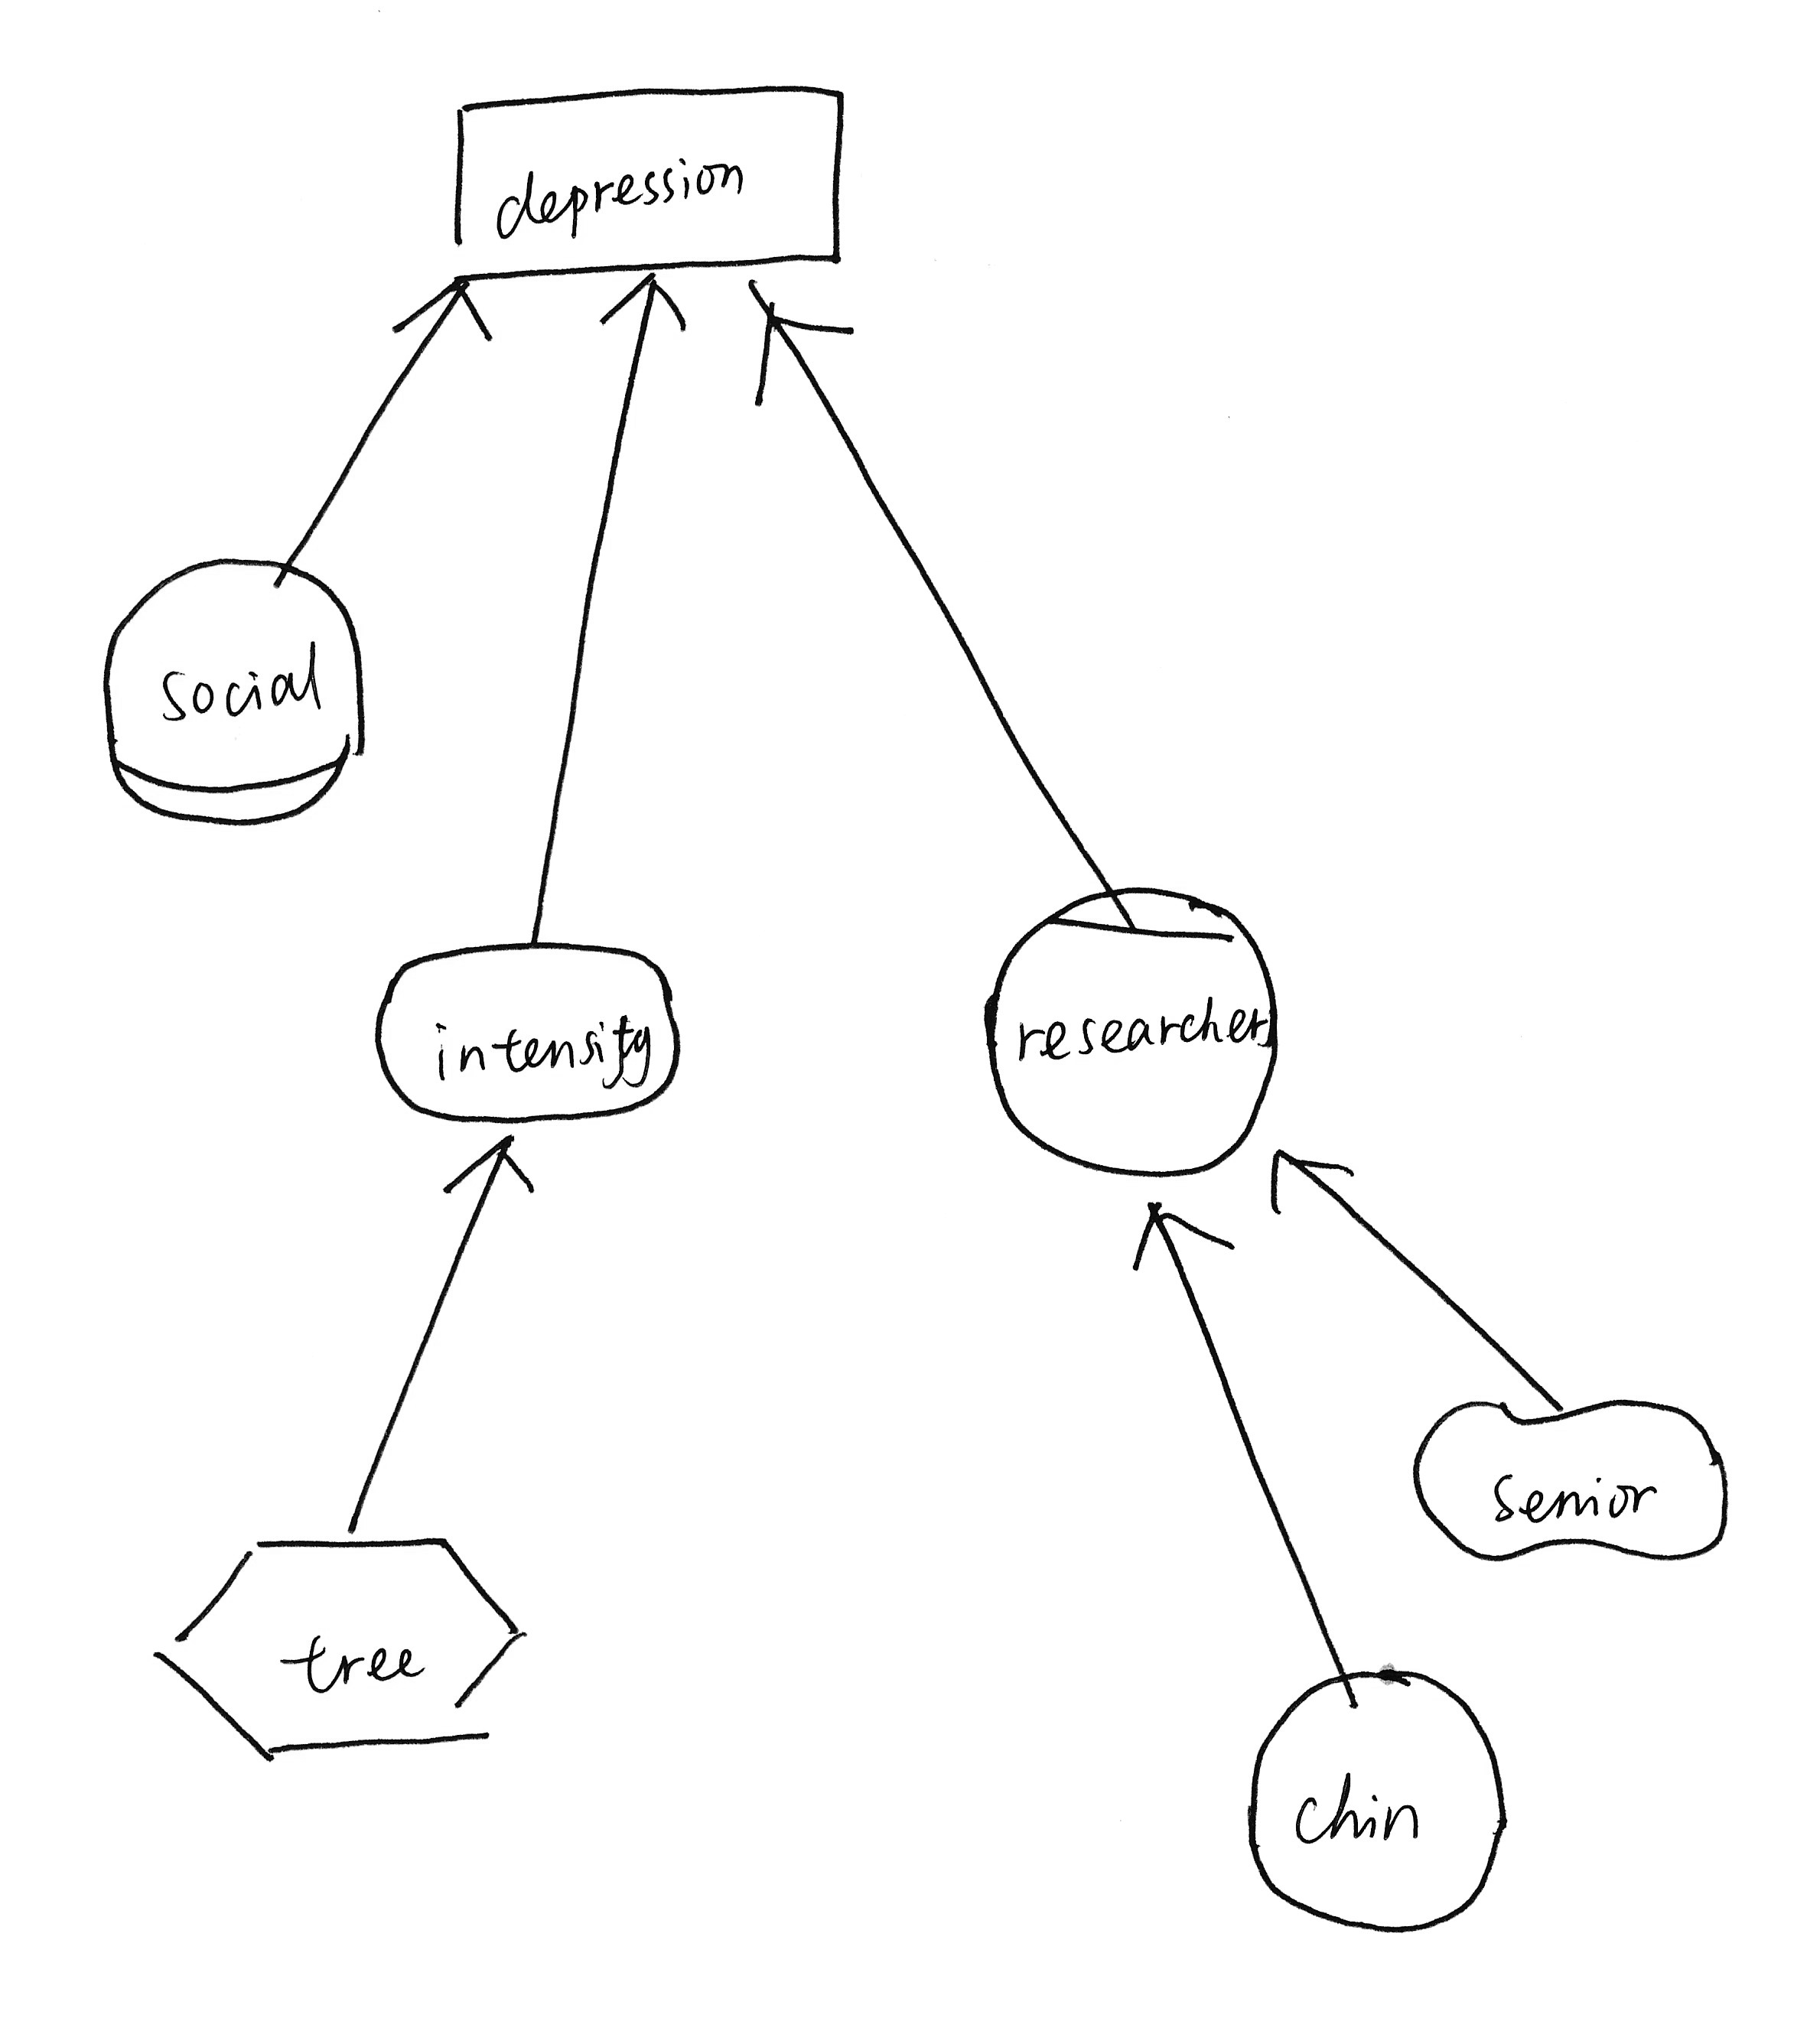actor: (1233, 1654, 1520, 1947)
agent: (971, 869, 1296, 1198)
arrow: (743, 291, 866, 428), (1114, 1191, 1251, 1292), (383, 263, 511, 360), (427, 1120, 546, 1217), (1253, 1136, 1369, 1234), (590, 263, 697, 353)
goal: (364, 924, 696, 1140)
quality: (1391, 1382, 1769, 1584)
resource: (432, 60, 875, 304)
role: (88, 525, 385, 846)
task: (137, 1519, 545, 1770)
